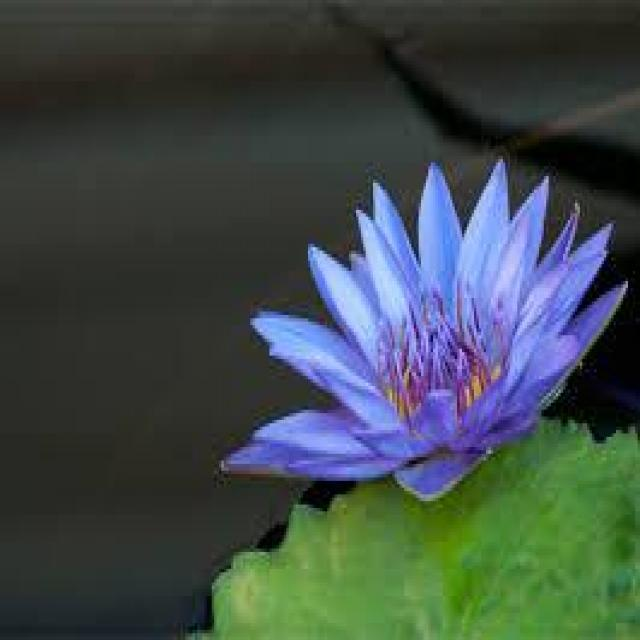organic waste: (219, 154, 623, 483)
